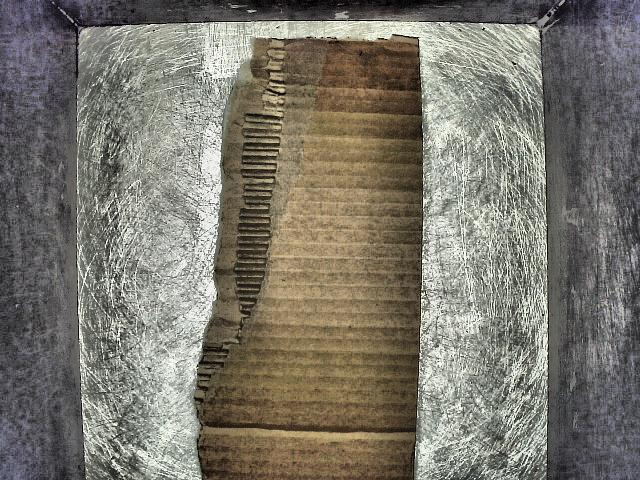Paper: (193, 33, 436, 480)
